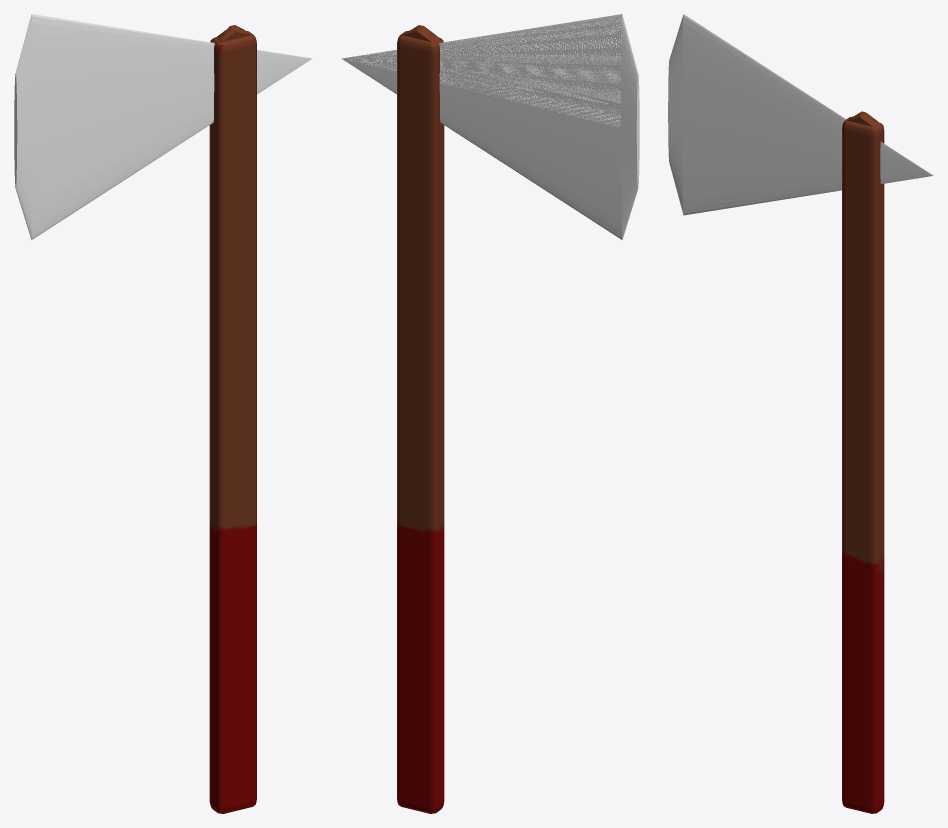
Rendered from Axe.glb.
3 renders of one model, left to right at view 1: azimuth 30°, elevation 25°; view 2: azimuth 150°, elevation 25°; view 3: azimuth 330°, elevation 25°, orthographic. The views are drawn at different scales.
Visible parts, largest first — view 1: Cube, Cone; view 2: Cube, Cone; view 3: Cube, Cone.
Boxes of the visible parts, x1,y1,x2,y2 form: Cube: (209,25,256,813); Cone: (14,14,312,239); Cube: (397,25,444,813); Cone: (341,14,639,239); Cube: (842,111,884,813); Cone: (668,14,933,215).
Size of the model in its own units: 3.02 by 8.2 by 0.2.
2 materials, 1 textured.
